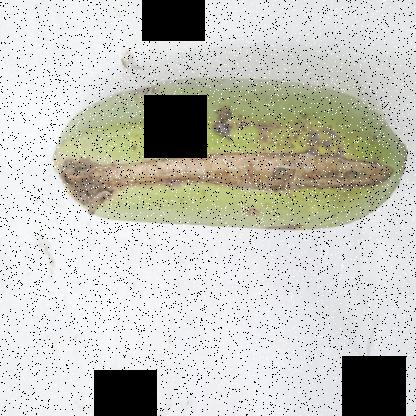rotten: (36, 86, 396, 257)
